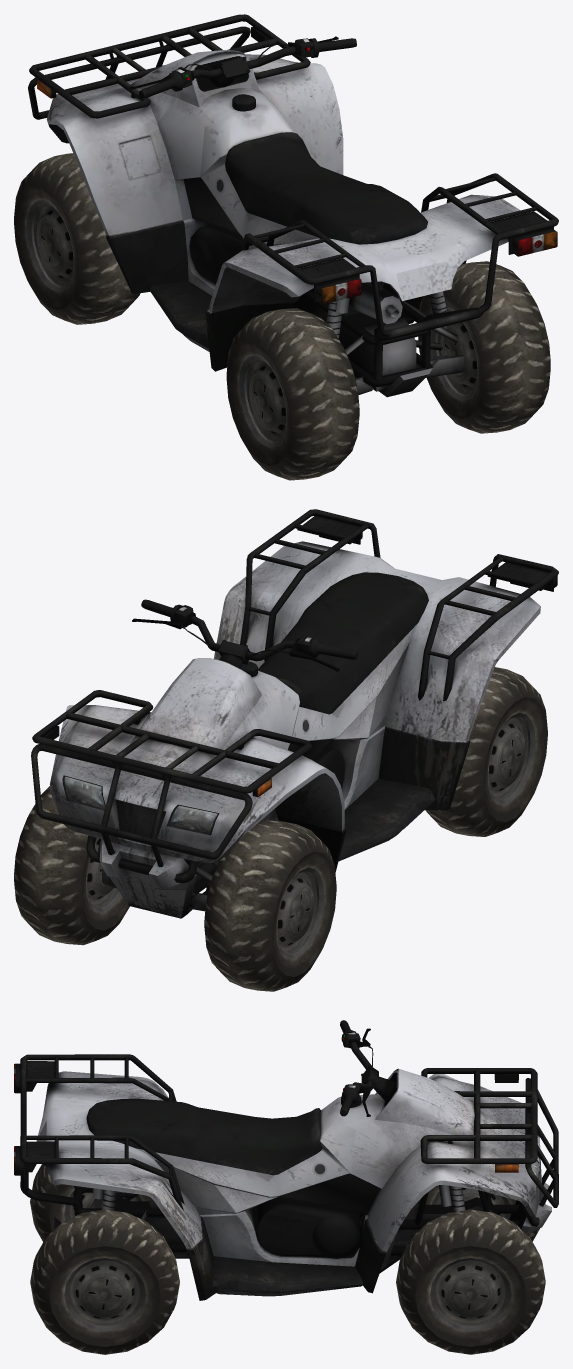
Rendered from atv.glb.
The picture shows the model from 3 angles, top to bottom: view 1: azimuth 30°, elevation 25°; view 2: azimuth 150°, elevation 25°; view 3: azimuth 270°, elevation 25°; orthographic projection. The views are drawn at different scales.
Parts seen in each view (by area): view 1: body, wheel3, wheel2, wheel4; view 2: body, wheel4, wheel3, wheel; view 3: body, wheel2, wheel, wheel3, wheel4.
Boxes of the visible parts, left/top/right/bottom form: body: left=28, top=14, right=558, bottom=397; wheel3: left=226, top=308, right=359, bottom=480; wheel2: left=418, top=261, right=550, bottom=433; wheel4: left=14, top=153, right=140, bottom=324; body: left=31, top=509, right=558, bottom=918; wheel4: left=204, top=820, right=336, bottom=991; wheel3: left=425, top=667, right=547, bottom=836; wheel: left=14, top=786, right=129, bottom=945; body: left=14, top=1020, right=558, bottom=1300; wheel2: left=30, top=1209, right=179, bottom=1354; wheel: left=396, top=1209, right=545, bottom=1354; wheel3: left=30, top=1164, right=148, bottom=1241; wheel4: left=425, top=1185, right=545, bottom=1241.
Size of the model in its own units: 1.36 by 1.39 by 2.75.
2 materials, 2 textured.
